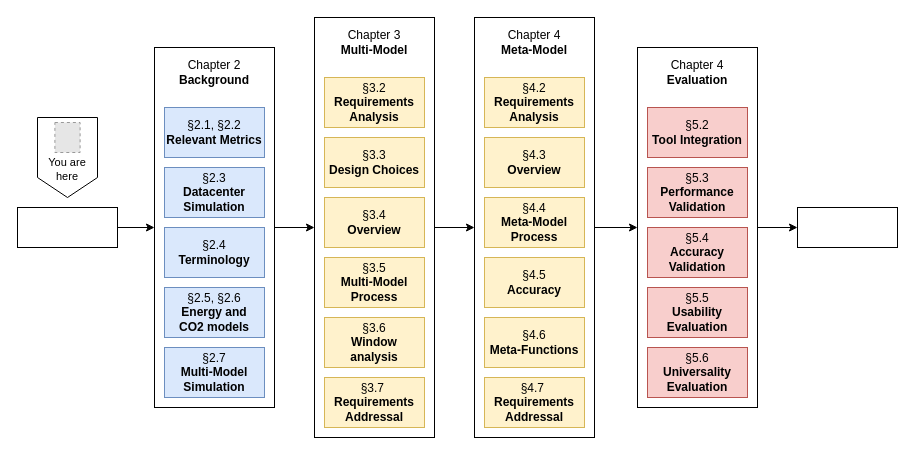
Some shapes in this 915 by 455 pixel diagram are drawn without their labels. Grey dashed boxes stand in for pictures. Each missing label, with the centre of its shape:
Chapter 1 Introduction: point 67,227
Chapter 5 Conclusion: point 847,227
